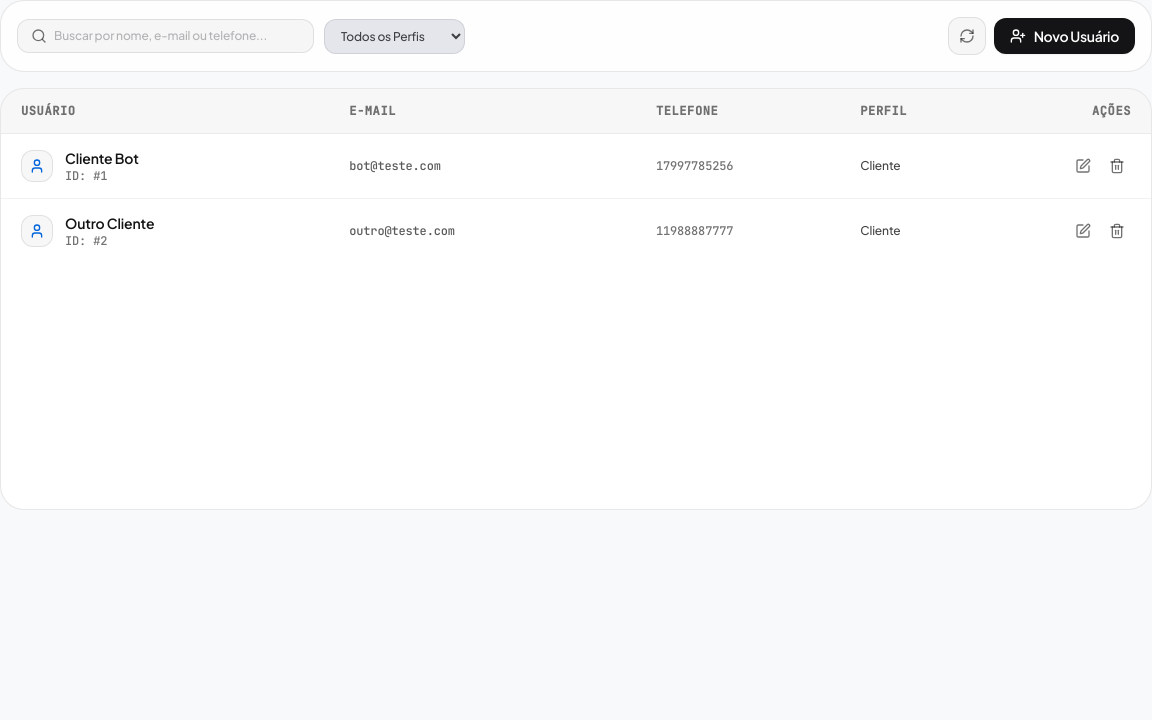
Scenario: UserManagementList › encontra telefone guardado só com dígitos quando a busca vem com máscara
The width and height of the screenshot is (1152, 720).
Type "(17) 99778" into the field with placeholder "Buscar por nome, e-mail ou telefone..." at (166, 36), box x1=17 y1=19 x2=314 y2=53
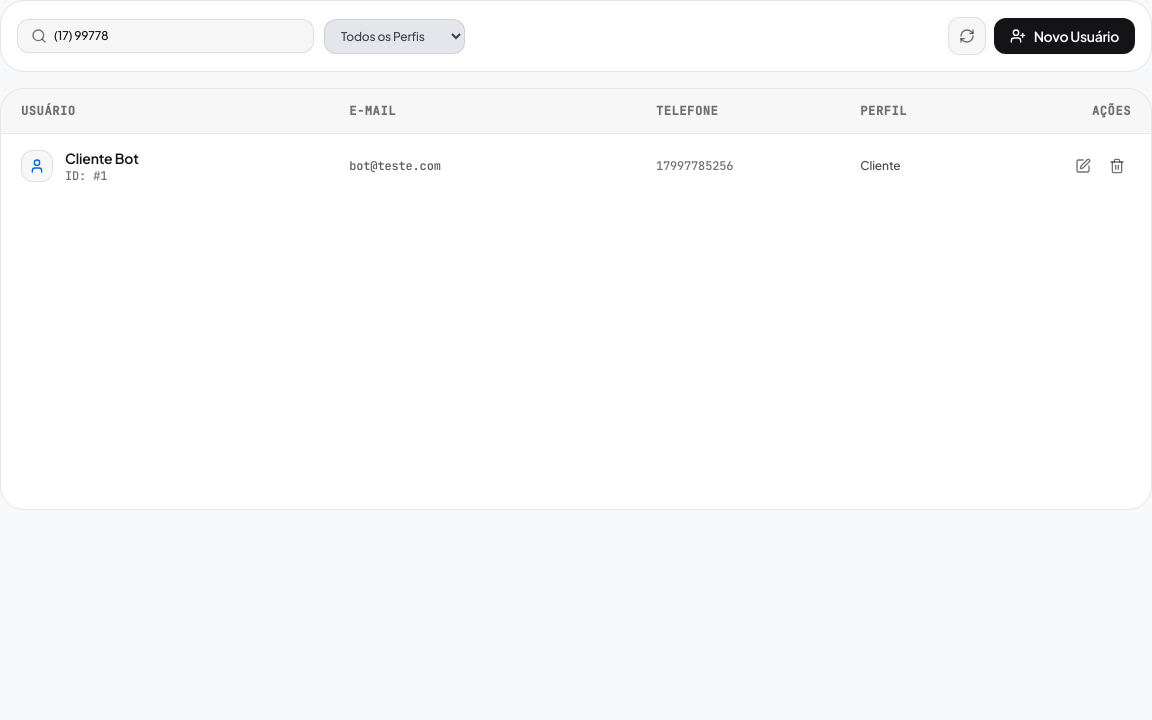
expect the text "Cliente Bot" is shown: met, box x1=65 y1=148 x2=139 y2=168
expect the text "Outro Cliente" is gone: met
